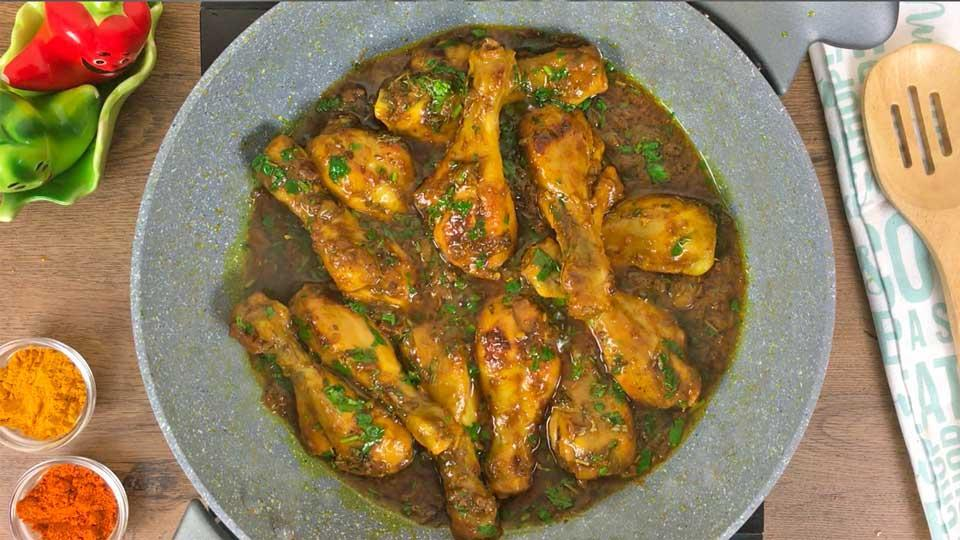chicken: (216, 59, 774, 540)
